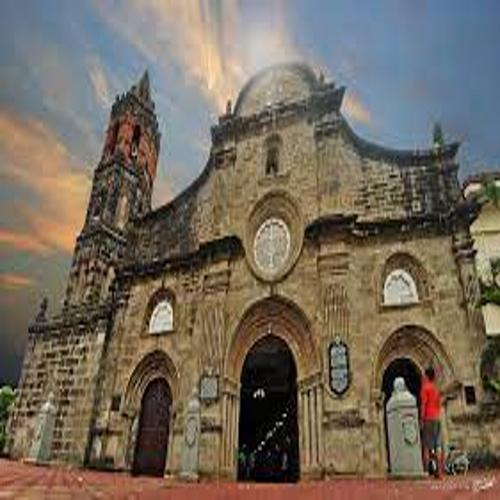Barasoain Church: (10, 52, 490, 474)
